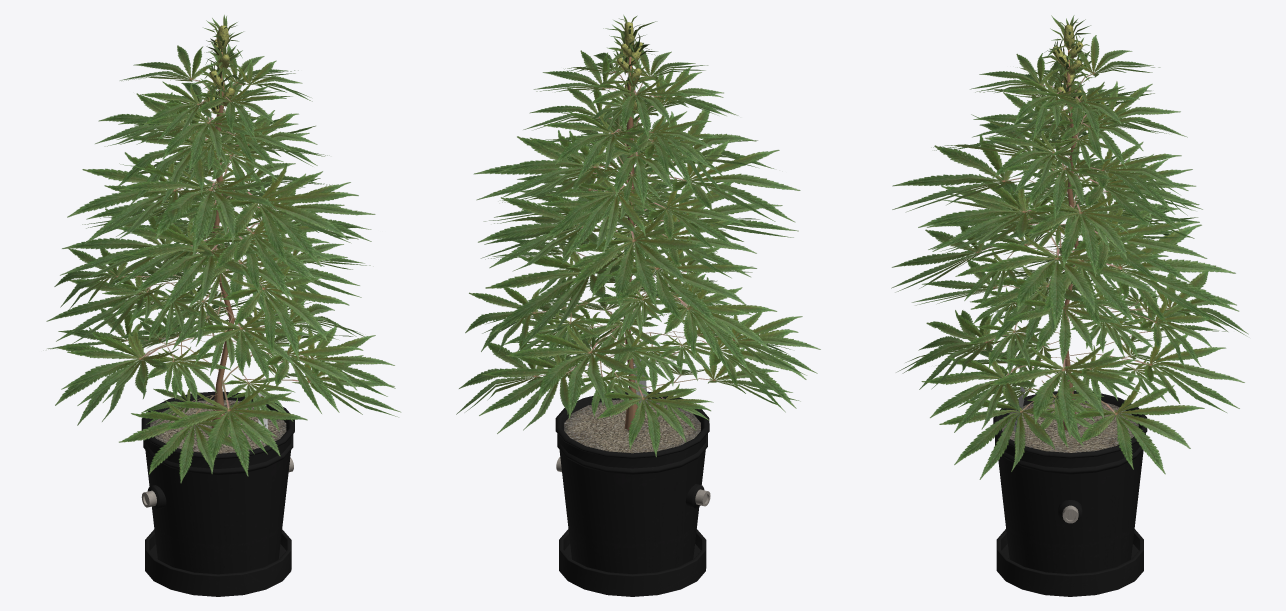
Rendered from plant-big.glb.
The picture shows the model from 3 angles, left to right: view 1: azimuth 30°, elevation 25°; view 2: azimuth 150°, elevation 25°; view 3: azimuth 270°, elevation 25°; orthographic projection.
Visible parts, largest first — view 1: Weed Plant Medium_b; view 2: Weed Plant Medium_b; view 3: Weed Plant Medium_b.
Boxes of the visible parts, x1,y1,x2,y2 form: Weed Plant Medium_b: (46,15,401,596); Weed Plant Medium_b: (456,15,820,596); Weed Plant Medium_b: (891,15,1248,596).
Size of the model in its own units: 1.22 by 1.79 by 1.18.
6 materials, 6 textured.
